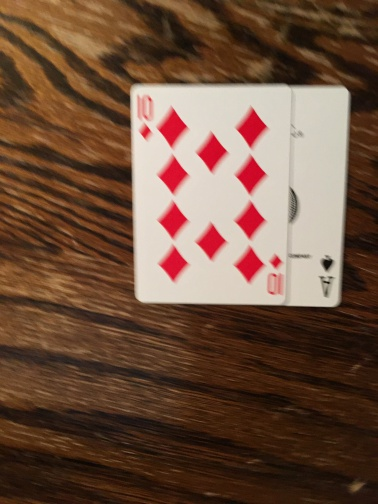ace: (287, 88, 350, 307)
ten: (131, 84, 287, 304)
